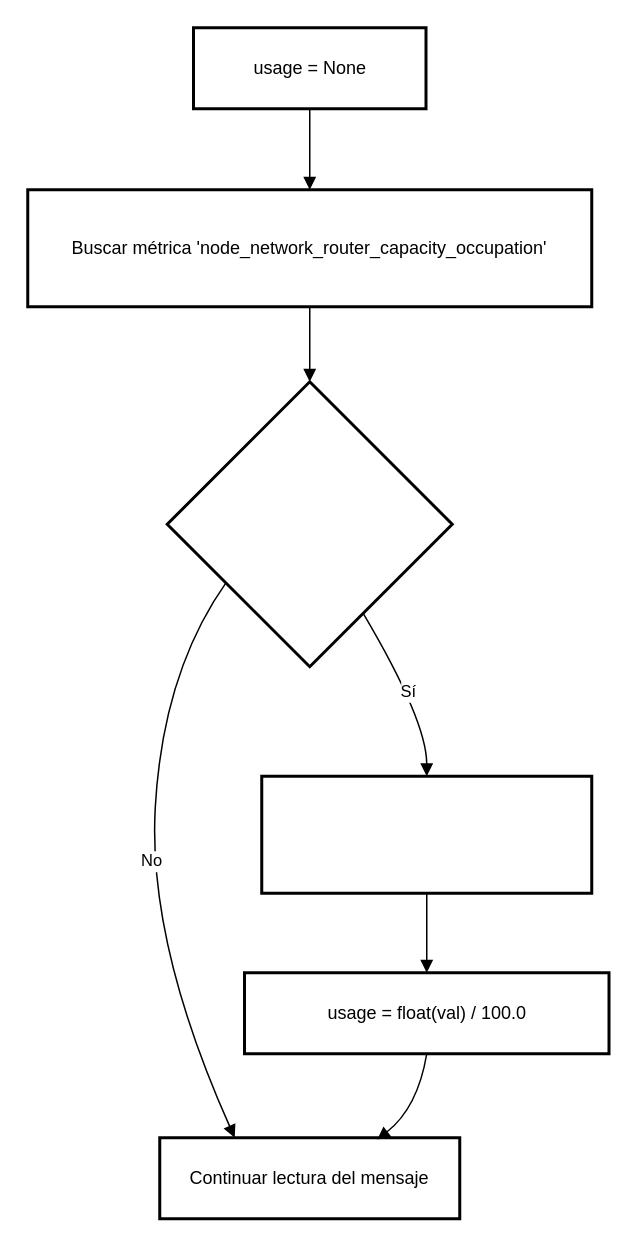
Image size: 636x1245. Some labels were removed from this diagram. Each missing label, with the centre of its shape:
"Extraer y validar valor (lista con elementos)" belongs at [426,834].
"¿Encontró métrica?" belongs at [309,524].
